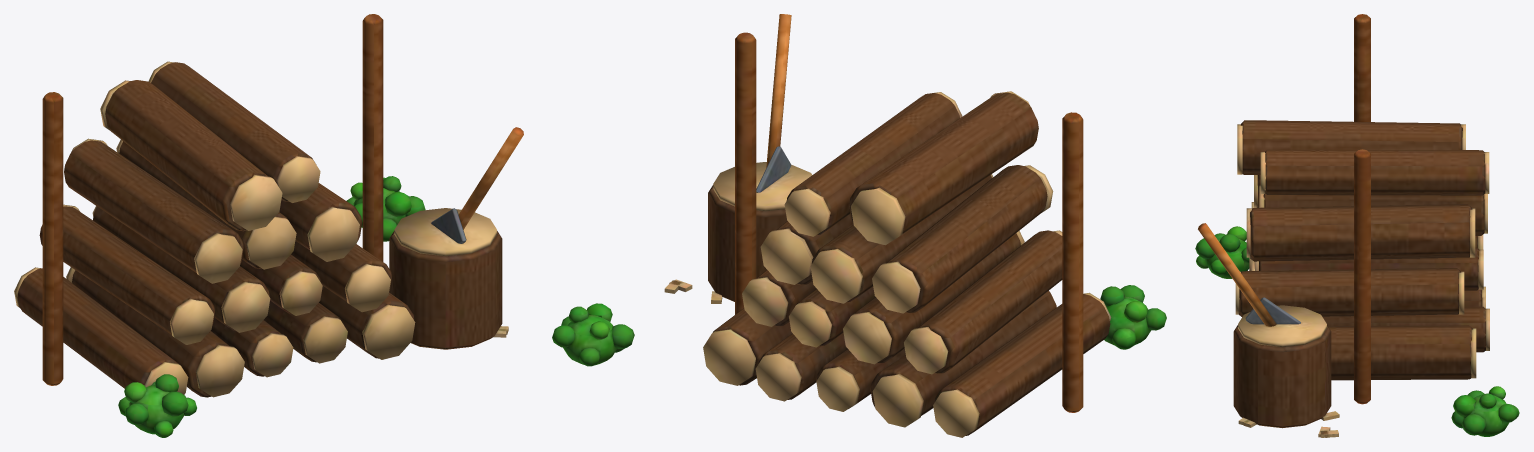
File: firewood_pile.glb
3 views of the same model, side by side, from view 1: azimuth 30°, elevation 25°; view 2: azimuth 150°, elevation 25°; view 3: azimuth 270°, elevation 25° (orthographic). The views are drawn at different scales.
Visible parts, largest first — view 1: firewood_pile; view 2: firewood_pile; view 3: firewood_pile.
Boxes of the visible parts, left/top/right/bottom form: firewood_pile: left=14, top=14, right=523, bottom=437; firewood_pile: left=552, top=14, right=1166, bottom=437; firewood_pile: left=1195, top=14, right=1519, bottom=437.
Bounding box in the file's own units: 1 × 0.62 × 0.7289.
1 material, 1 textured.
